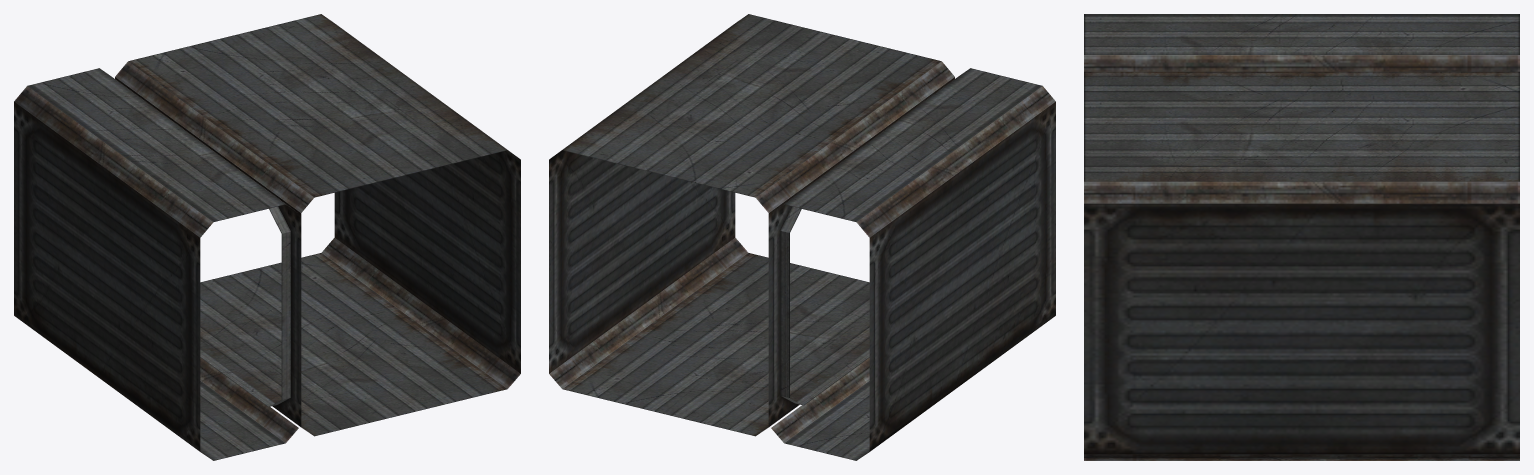
Rendered from trainstation_maintenance_tunnels_straight_hatch_side.dae.
The picture shows the model from 3 angles, left to right: view 1: azimuth 30°, elevation 25°; view 2: azimuth 150°, elevation 25°; view 3: azimuth 270°, elevation 25°; orthographic projection. The views are drawn at different scales.
Visible parts, largest first — view 1: straight_hatch_side; view 2: straight_hatch_side; view 3: straight_hatch_side.
Boxes of the visible parts, x1,y1,x2,y2 form: straight_hatch_side: (14, 14, 520, 460); straight_hatch_side: (549, 14, 1055, 460); straight_hatch_side: (1084, 14, 1519, 460).
Bounding box in the file's own units: 1.99 × 1.41 × 2.
